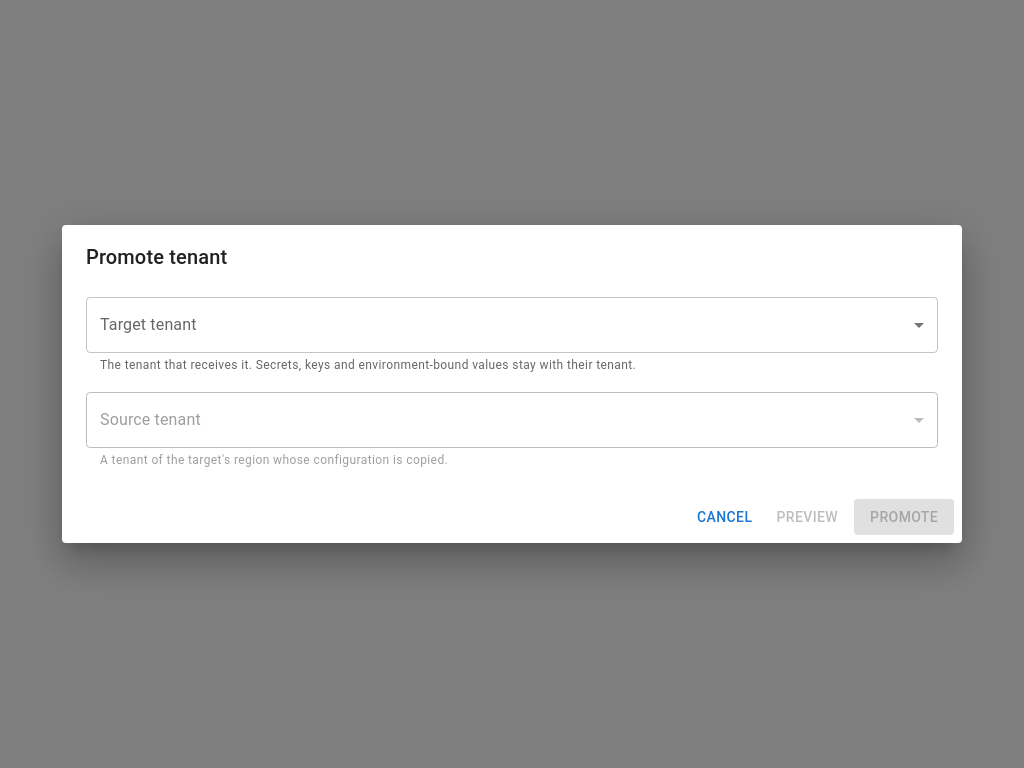
Test: TenantPromotionDialog › offers as sources only the tenants of the target region, the target excluded
This screenshot has width=1024, height=768.
Expected: the element with test id "promotion-source" is disabled, left=86, top=392, right=938, bottom=448
Replace the text in the field with test id "promotion-target" with "eu-1/staging" at (512, 325), box left=86, top=297, right=938, bottom=353
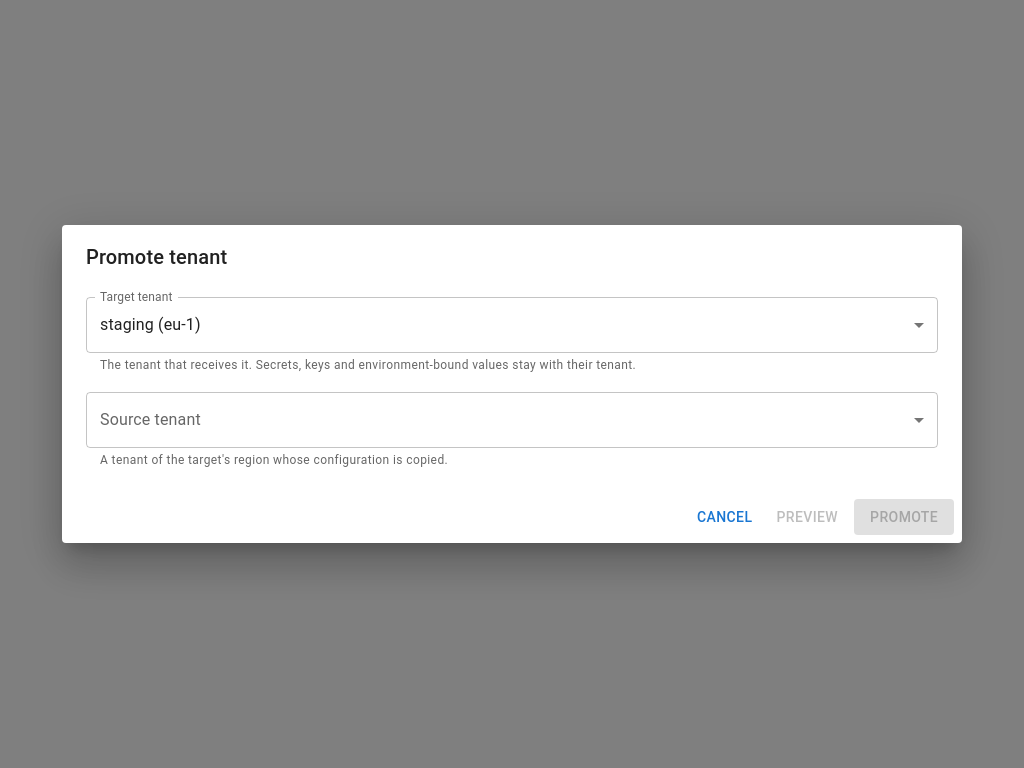
Press the mouse on the dropdown named "source tenant" at (512, 420), box left=86, top=392, right=938, bottom=448
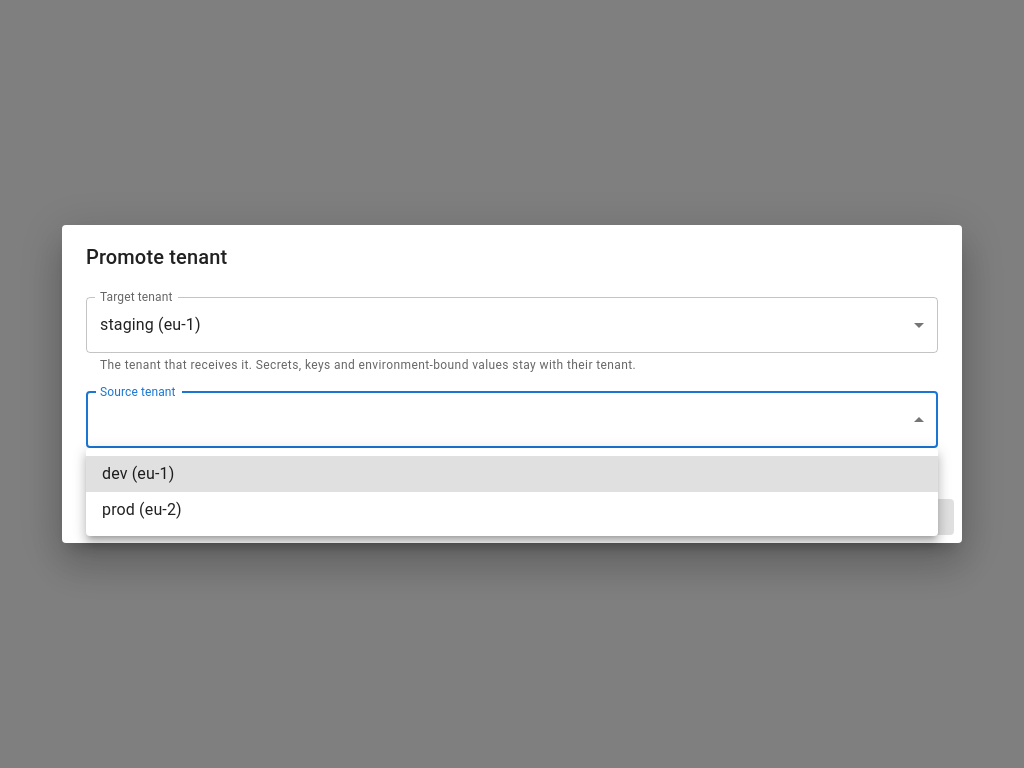
Expected: the options read "dev (eu-1)", "prod (eu-2)", in this order, left=86, top=456, right=938, bottom=492; left=102, top=500, right=182, bottom=519
